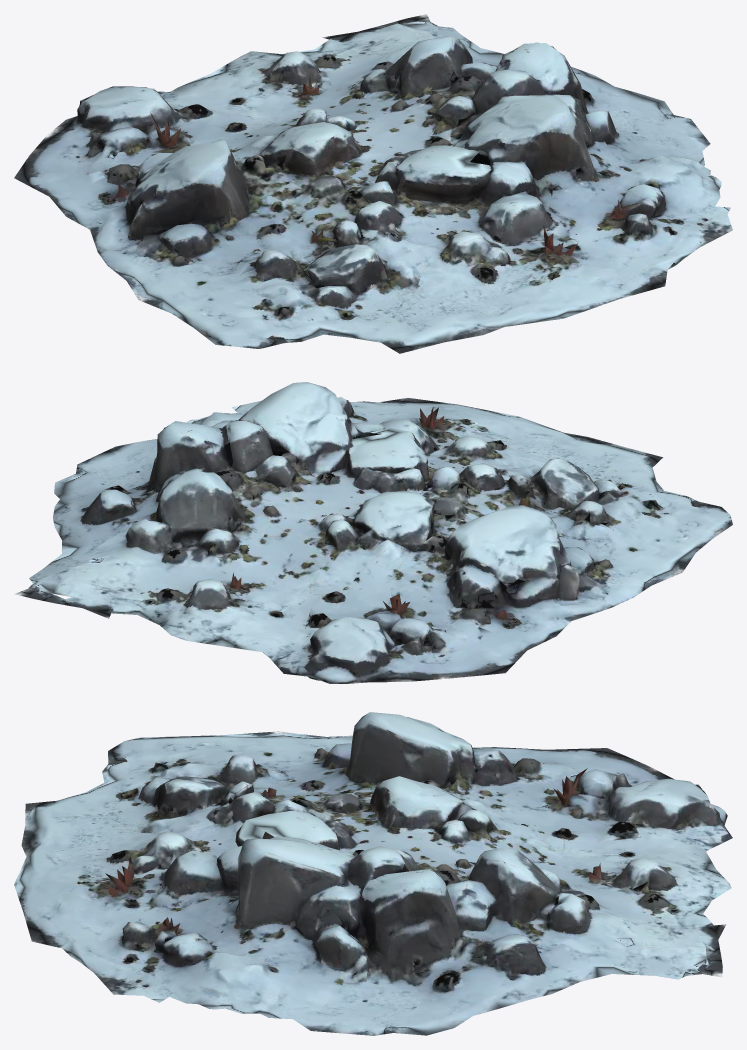
File: snow-ground-1.glb
The picture shows the model from 3 angles, top to bottom: view 1: azimuth 30°, elevation 25°; view 2: azimuth 150°, elevation 25°; view 3: azimuth 270°, elevation 25°; orthographic projection. The views are drawn at different scales.
Parts seen in each view (by area): view 1: geometry_0; view 2: geometry_0; view 3: geometry_0.
Boxes of the visible parts, x1=… form: geometry_0: x1=14, y1=14, x2=732, y2=353; geometry_0: x1=14, y1=382, x2=732, y2=683; geometry_0: x1=14, y1=712, x2=732, y2=1035.
Size of the model in its own units: 0.9396 by 0.1698 by 0.9311.
Materials: 1 (1 with a texture image).
